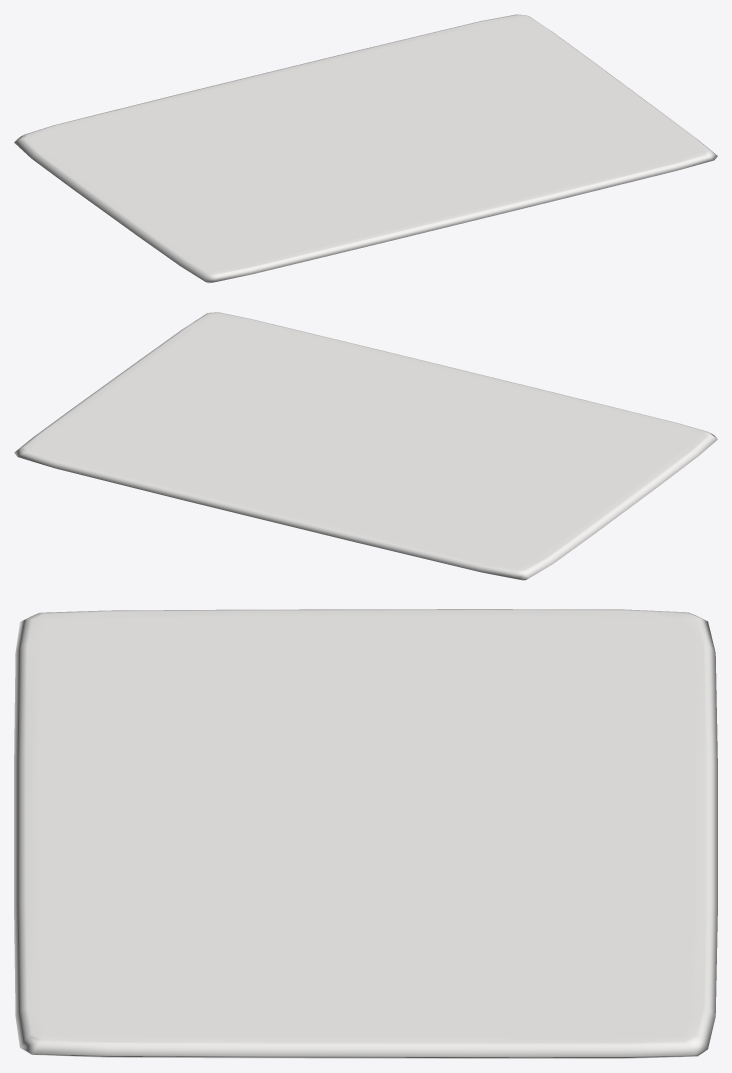
File: P_RugMediumDiamonds.glb
3 renders of one model, top to bottom at view 1: azimuth 30°, elevation 25°; view 2: azimuth 150°, elevation 25°; view 3: azimuth 270°, elevation 25°, orthographic. The views are drawn at different scales.
Parts seen in each view (by area): view 1: P_RugMediumDiamonds; view 2: P_RugMediumDiamonds; view 3: P_RugMediumDiamonds.
Boxes of the visible parts, <box> form: P_RugMediumDiamonds: <box>14,14,717,283</box>; P_RugMediumDiamonds: <box>14,312,717,580</box>; P_RugMediumDiamonds: <box>14,609,717,1058</box>.
Bounding box in the file's own units: 2.99 × 0.0405 × 2.
Materials: 1 (1 with a texture image).
